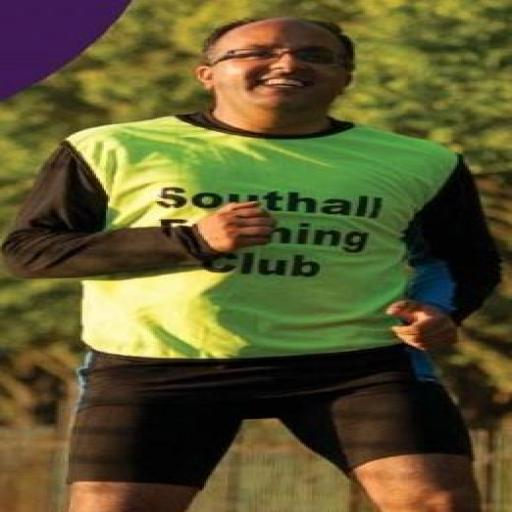person: (4, 18, 500, 511)
